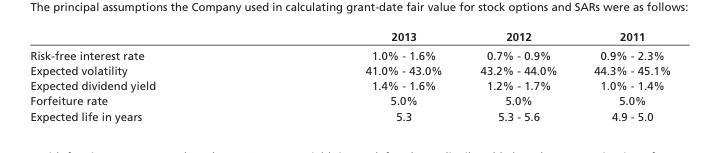table: (29, 29, 670, 122)
table column: (29, 29, 259, 122), (259, 29, 460, 122), (460, 29, 574, 122), (574, 29, 670, 122)
table column header: (29, 29, 670, 45)
table row: (29, 45, 670, 62), (29, 29, 670, 45), (29, 92, 670, 108), (29, 62, 670, 77), (29, 77, 670, 92), (29, 108, 670, 122)
